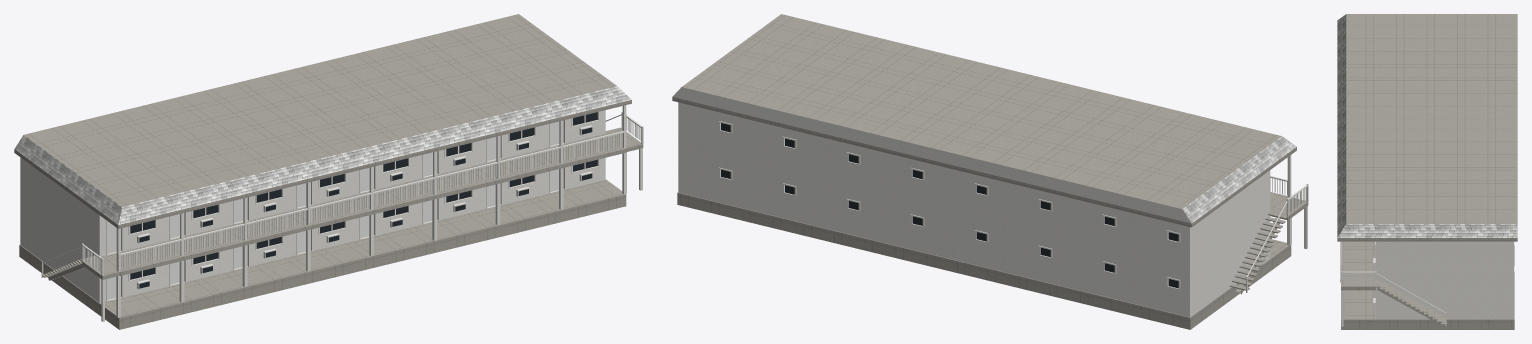
File: motel-strip.glb
3 views of the same model, side by side, from view 1: azimuth 30°, elevation 25°; view 2: azimuth 150°, elevation 25°; view 3: azimuth 270°, elevation 25° (orthographic). The views are drawn at different scales.
Visible parts, largest first — view 1: motel-strip; view 2: motel-strip; view 3: motel-strip.
Boxes of the visible parts, left/top/right/bottom form: motel-strip: left=14, top=14, right=643, bottom=329; motel-strip: left=672, top=14, right=1308, bottom=329; motel-strip: left=1337, top=14, right=1517, bottom=329.
Size of the model in its own units: 35.64 by 7.5 by 11.85.
Materials: 6 (3 with a texture image).
